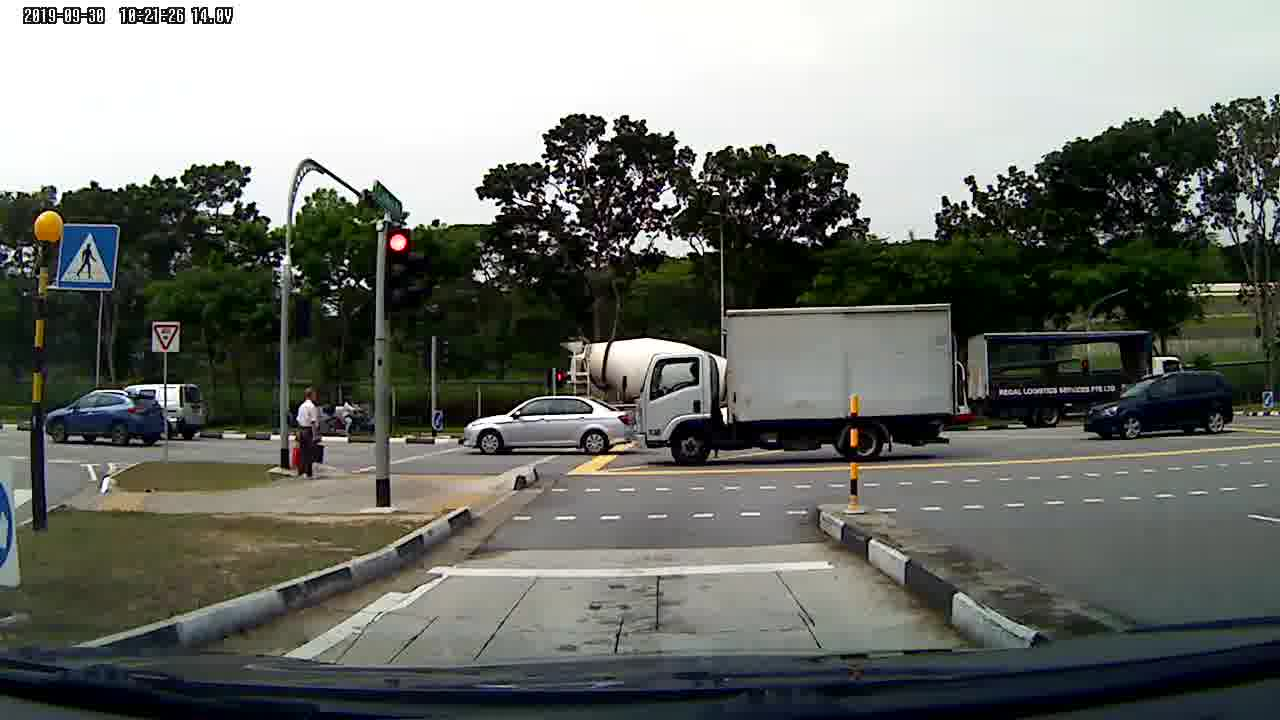car: (1073, 375, 1242, 443), (460, 396, 639, 457), (43, 387, 169, 444)
